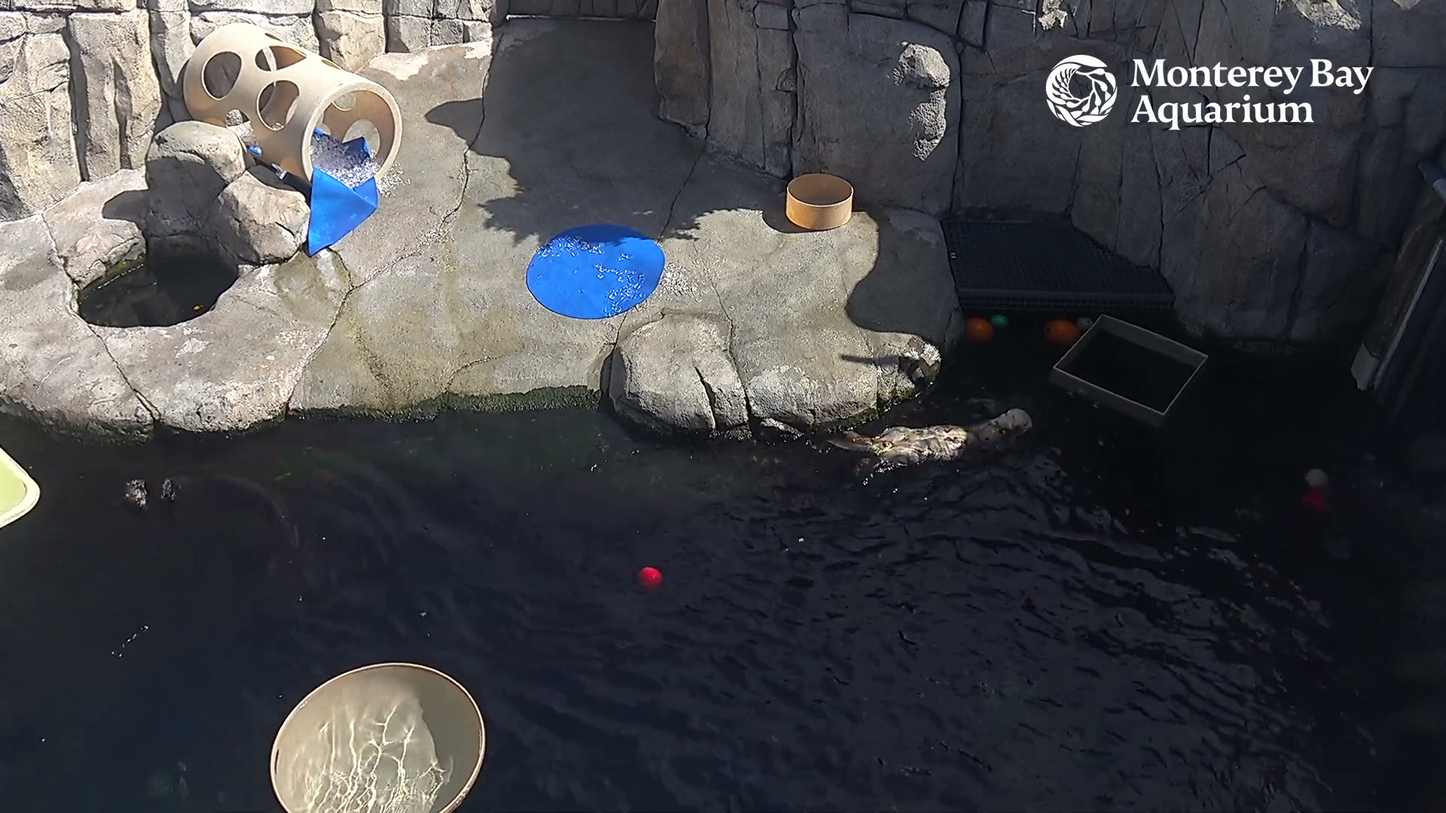Southern Sea Otter: (113, 443, 328, 587), (815, 398, 1056, 497)
